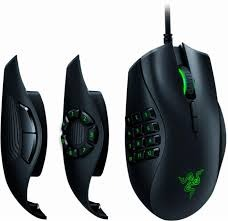mouse: (121, 39, 228, 220), (56, 50, 114, 219), (3, 48, 50, 221)
